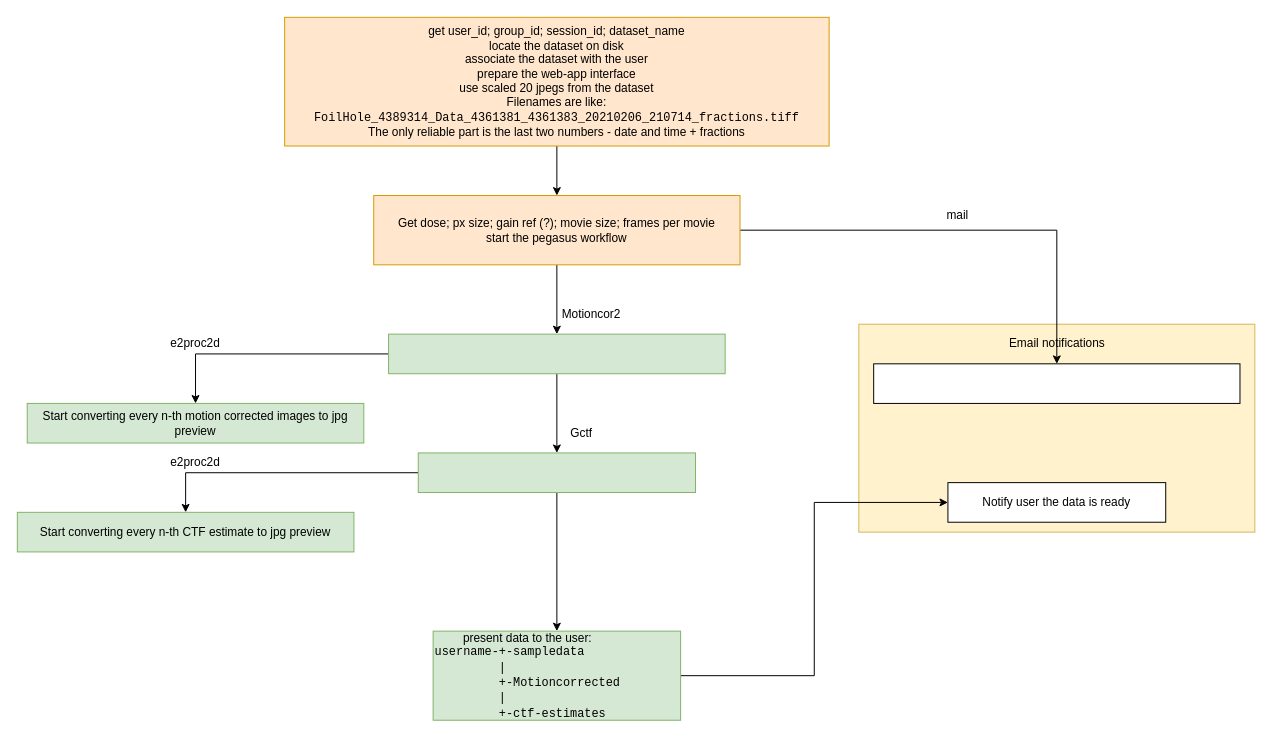
Image size: 1272x738. Some labels were removed from this diagram. The shapes that lost their labels are listed below. From the top down, each one's centre as x and y in pixels, then its label:
At point 556,353: "apply motion correction to the dataset".
At point 1056,383: "Inform user about the URL to the website and/or credentials required".
At point 556,472: "calculate the CTF estimates for the images".
